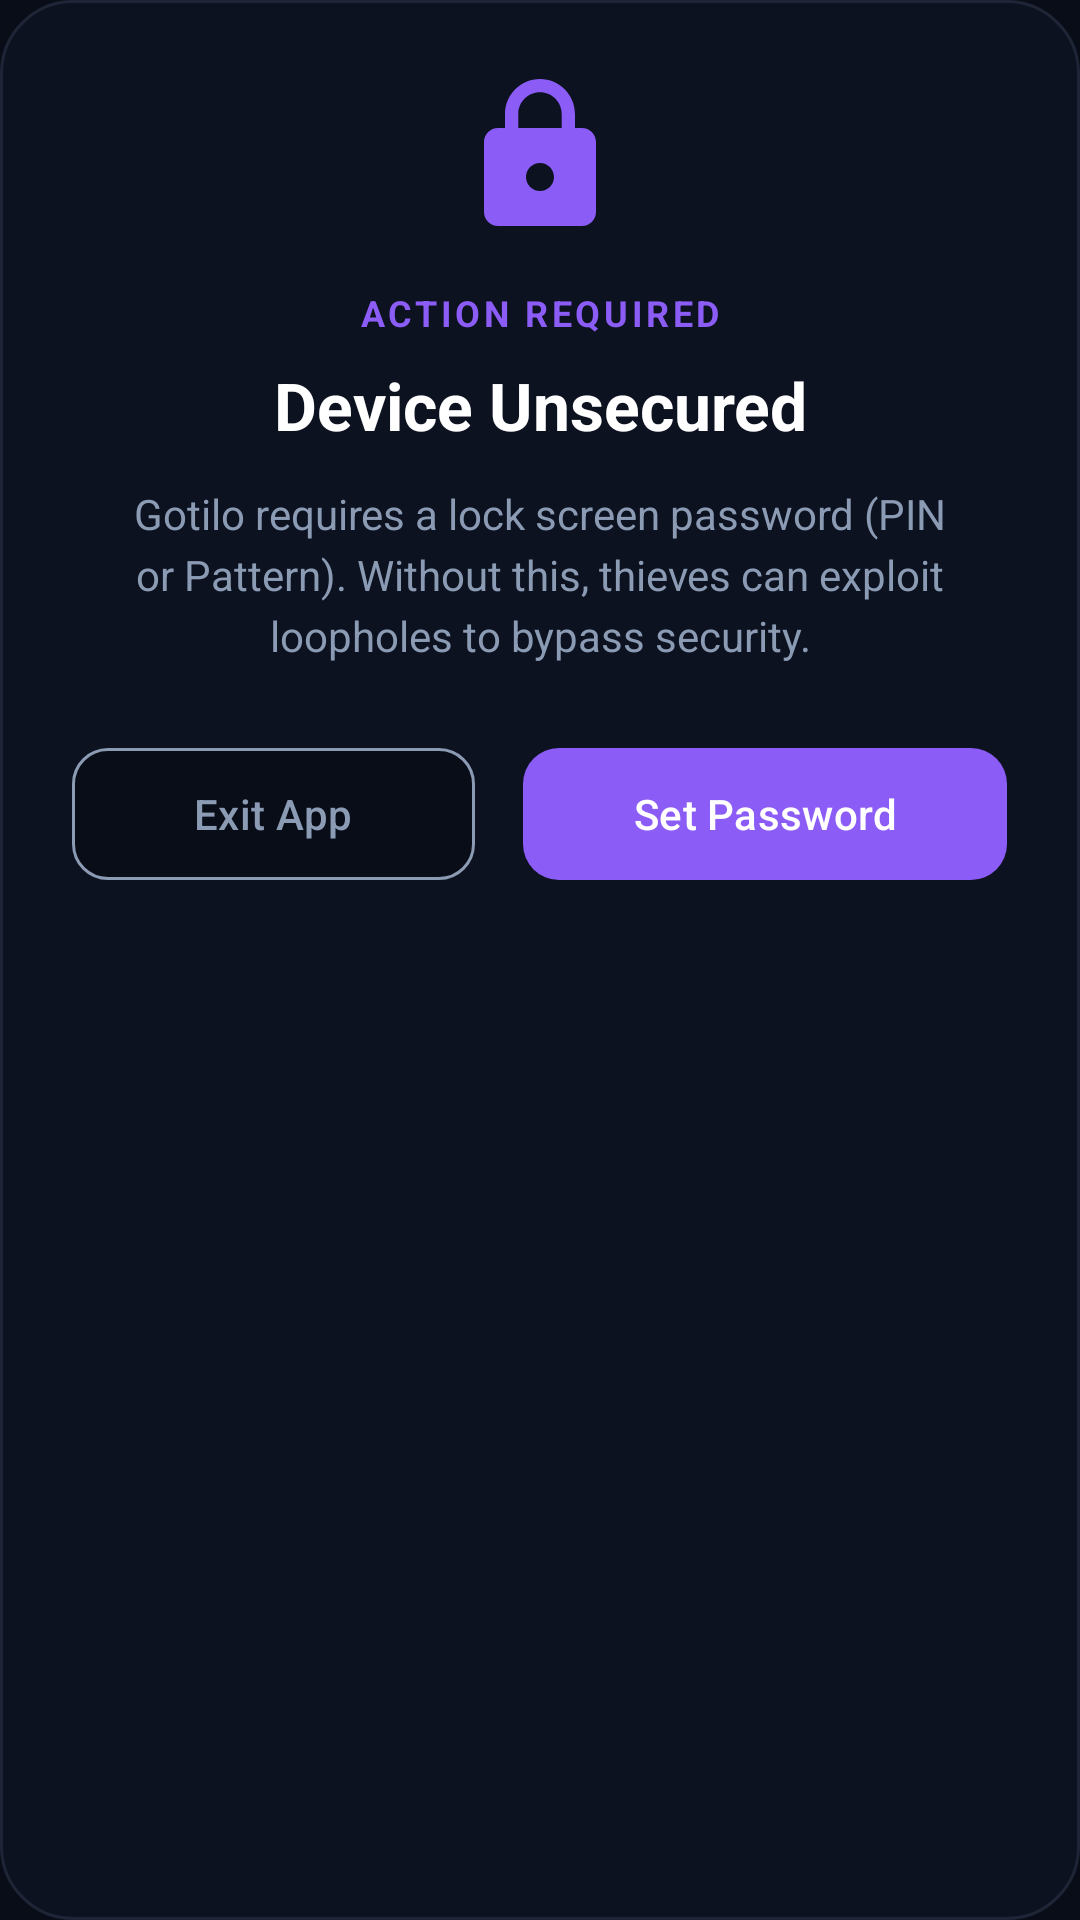

Named icons in this screenshot (1080px x 1920px) and their bounding boxes, detection(x1, y1, x2, y2):
secure lock: detection(484, 79, 596, 226)
